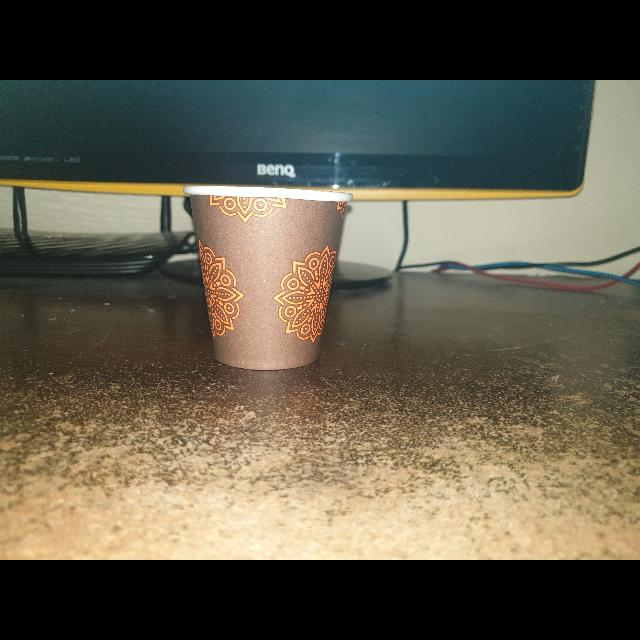trash: (173, 173, 359, 379)
